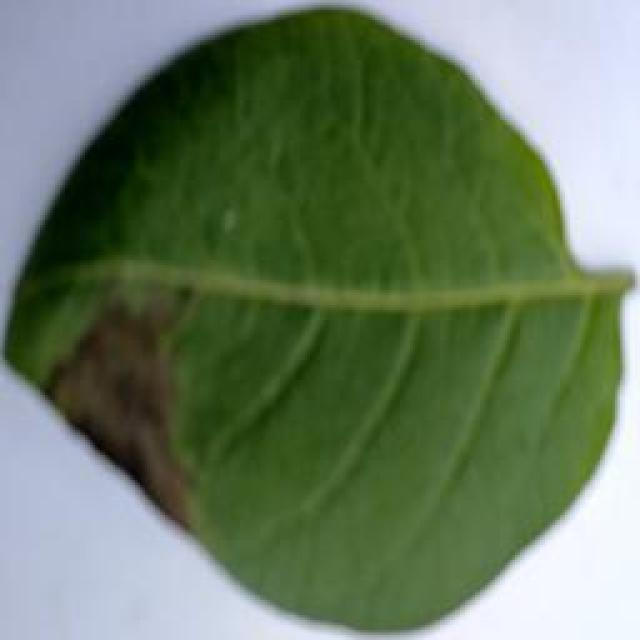Potato_Late_Blight: (2, 5, 623, 633)
